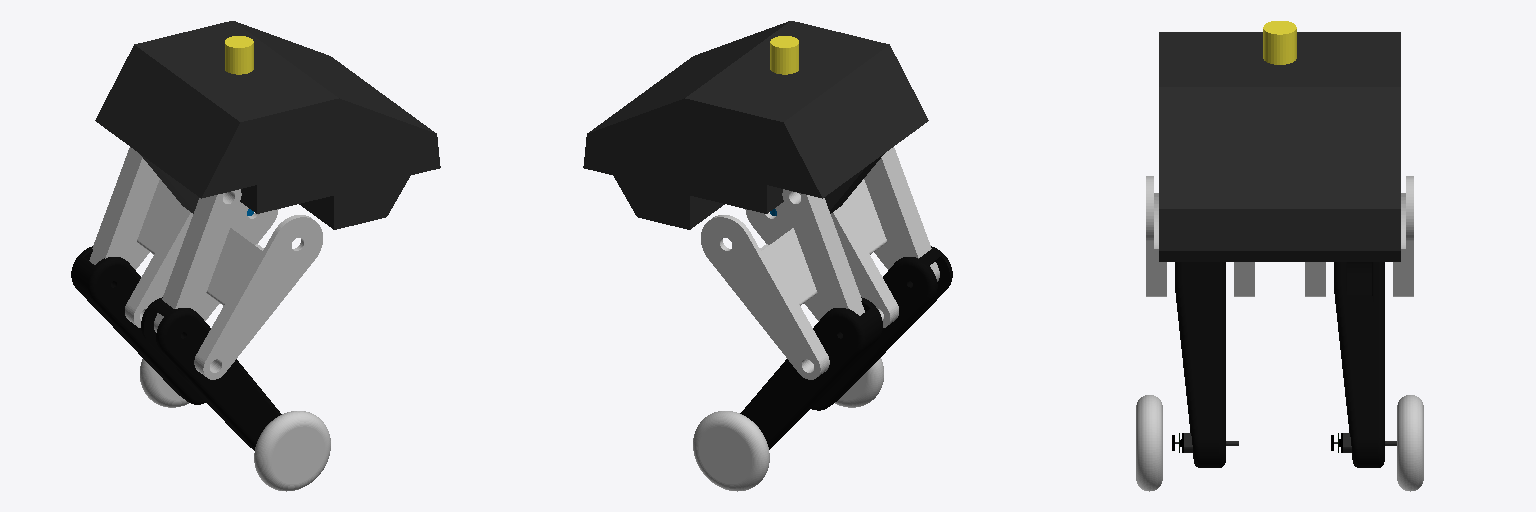
robot.urdf — echo_bot:
<?xml version="1.0" encoding="utf-8"?>
<!-- =================================================================================== -->
<!-- |    This document was autogenerated by xacro from echo_bot.urdf.xacro            | -->
<!-- |    EDITING THIS FILE BY HAND IS NOT RECOMMENDED                                 | -->
<!-- =================================================================================== -->
<robot name="echo_bot">
  <!-- == echo_bot base == -->
  <link name="base_link"/>
  <link name="torso_link">
    <visual>
      <origin rpy="0 0 0" xyz="0 0 0"/>
      <geometry>
        <mesh filename="package://echo_bot_description/meshes/DAE/torso.dae"/>
      </geometry>
    </visual>
    <collision>
      <origin rpy="0 0 0" xyz="0 0 0"/>
      <geometry>
        <mesh filename="package://echo_bot_description/meshes/STL/torso.stl"/>
      </geometry>
    </collision>
    <inertial>
      <inertia ixx="0.006594" ixy="0.0" ixz="0.000999" iyy="0.007405" iyz="0.0" izz="0.010608"/>
      <mass value="2.915"/>
      <origin rpy="0 0 0" xyz="0.025 0 0.053"/>
    </inertial>
  </link>
  <link name="torso_back_left"/>
  <!-- <link name="torso_back_right"/> -->
  <joint name="torso_link_to_torso_back_left" type="fixed">
    <origin xyz="-0.04 0.0475 0.035"/>
    <parent link="torso_link"/>
    <child link="torso_back_left"/>
  </joint>
  <!-- <joint name="torso_link_to_torso_back_right" type="fixed">
      <origin xyz="-0.04 -0.0475 0.035"/>
      <parent link="torso_link"/>
      <child link="torso_back_right"/>
    </joint> -->
  <joint name="base_link_to_torso_link" type="fixed">
    <origin rpy="0 0 0" xyz="0 0 0"/>
    <parent link="base_link"/>
    <child link="torso_link"/>
  </joint>
  <!-- <link name="base_footprint"/>
  <joint name="base_link_to_base_footprint_joint" type="fixed">
    <origin xyz="0 0 0.090"/>
    <parent link="base_link"/>
    <child link="base_footprint"/>
  </joint> -->
  <!-- Link -->
  <link name="upper_lleg_link">
    <visual>
      <origin rpy="0 0 0" xyz="0 0 0"/>
      <geometry>
        <mesh filename="package://echo_bot_description/meshes/DAE/upper_leg.dae"/>
      </geometry>
    </visual>
    <collision>
      <origin rpy="0 0 0" xyz="0 0 0"/>
      <geometry>
        <mesh filename="package://echo_bot_description/meshes/STL/upper_leg.stl"/>
      </geometry>
    </collision>
    <inertial>
      <inertia ixx="0.000311" ixy="0.0" ixz="0.000001" iyy="0.000394" iyz="0.0" izz="0.000622"/>
      <mass value="0.5"/>
      <origin rpy="0 0 0" xyz="0.045 0 -0.001"/>
    </inertial>
  </link>
  <link name="lower_lleg_link">
    <visual>
      <origin rpy="0 0 0" xyz="0 0 0"/>
      <geometry>
        <mesh filename="package://echo_bot_description/meshes/DAE/lower_lleg.dae"/>
      </geometry>
    </visual>
    <collision>
      <origin rpy="0 0 0" xyz="0 0 0"/>
      <geometry>
        <mesh filename="package://echo_bot_description/meshes/STL/lower_lleg.stl"/>
      </geometry>
    </collision>
    <inertial>
      <inertia ixx="0.000151" ixy="-0.000041" ixz="-0.000004" iyy="0.000795" iyz="0.0" izz="0.000777"/>
      <mass value="0.5"/>
      <origin rpy="0 0 0" xyz="0.058 0.001 -0.001"/>
    </inertial>
  </link>
  <link name="upper_side_lleg_link">
    <visual>
      <origin rpy="0 0 0" xyz="0 0 0"/>
      <material name="leg_color_0"/>
      <geometry>
        <mesh filename="package://echo_bot_description/meshes/DAE/upper_side_leg.dae"/>
      </geometry>
    </visual>
    <collision>
      <origin rpy="0 0 0" xyz="0 0 0"/>
      <geometry>
        <mesh filename="package://echo_bot_description/meshes/STL/upper_side_leg.stl"/>
      </geometry>
    </collision>
    <inertial>
      <inertia ixx="0.000018" ixy="0.0" ixz="0.0" iyy="0.000316" iyz="0.0" izz="0.000314"/>
      <mass value="0.5"/>
      <origin rpy="0 0 0" xyz="0.05 0 0"/>
    </inertial>
  </link>
  <!-- Joint -->
  <joint name="torso_to_upper_lleg" type="revolute">
    <origin rpy="0.0 2.27 0.0" xyz="0.0 0.0475 0.0"/>
    <parent link="torso_link"/>
    <child link="upper_lleg_link"/>
    <axis xyz="0 1 0"/>
    <limit effort="100" lower="0.0" upper="0.52359879" velocity="3.14159274"/>
    <dynamics damping="0.1"/>
  </joint>
  <transmission name="torso_to_upper_lleg_trans">
    <type>transmission_interface/SimpleTransmission</type>
    <joint name="torso_to_upper_lleg">
      <hardwareInterface>hardware_interface/EffortJointInterface</hardwareInterface>
    </joint>
    <actuator name="torso_to_upper_lleg_motor">
      <hardwareInterface>hardware_interface/EffortJointInterface</hardwareInterface>
      <mechanicalReduction>1</mechanicalReduction>
    </actuator>
  </transmission>
  <joint name="upper_lleg_to_lower_lleg" type="continuous">
    <origin rpy="0.0 -1.36 0.0" xyz="0.1 0.0 0.0"/>
    <parent link="upper_lleg_link"/>
    <child link="lower_lleg_link"/>
    <axis xyz="0 1 0"/>
    <!-- <mimic joint="upper_${prefix}leg_link_joint" multiplier="-2.186" offset="-0.02025"/> -->
  </joint>
  <joint name="lower_lleg_to_upper_side_lleg" type="continuous">
    <origin rpy="0.0 -2.08 0.0" xyz="-0.025 0.0 0.0"/>
    <parent link="lower_lleg_link"/>
    <child link="upper_side_lleg_link"/>
    <axis xyz="0 1 0"/>
    <!-- <mimic joint="upper_${prefix}leg_link_joint" multiplier="2.123937" offset="0.003625"/> -->
  </joint>
  <!-- Link -->
  <link name="upper_rleg_link">
    <visual>
      <origin rpy="0 0 0" xyz="0 0 0"/>
      <geometry>
        <mesh filename="package://echo_bot_description/meshes/DAE/upper_leg.dae"/>
      </geometry>
    </visual>
    <collision>
      <origin rpy="0 0 0" xyz="0 0 0"/>
      <geometry>
        <mesh filename="package://echo_bot_description/meshes/STL/upper_leg.stl"/>
      </geometry>
    </collision>
    <inertial>
      <inertia ixx="0.000311" ixy="0.0" ixz="0.000001" iyy="0.000394" iyz="0.0" izz="0.000622"/>
      <mass value="0.5"/>
      <origin rpy="0 0 0" xyz="0.045 0 -0.001"/>
    </inertial>
  </link>
  <link name="lower_rleg_link">
    <visual>
      <origin rpy="0 0 0" xyz="0 0 0"/>
      <geometry>
        <mesh filename="package://echo_bot_description/meshes/DAE/lower_rleg.dae"/>
      </geometry>
    </visual>
    <collision>
      <origin rpy="0 0 0" xyz="0 0 0"/>
      <geometry>
        <mesh filename="package://echo_bot_description/meshes/STL/lower_rleg.stl"/>
      </geometry>
    </collision>
    <inertial>
      <inertia ixx="0.000151" ixy="-0.000041" ixz="-0.000004" iyy="0.000795" iyz="0.0" izz="0.000777"/>
      <mass value="0.5"/>
      <origin rpy="0 0 0" xyz="0.058 0.001 -0.001"/>
    </inertial>
  </link>
  <link name="upper_side_rleg_link">
    <visual>
      <origin rpy="0 0 0" xyz="0 0 0"/>
      <material name="leg_color_0"/>
      <geometry>
        <mesh filename="package://echo_bot_description/meshes/DAE/upper_side_leg.dae"/>
      </geometry>
    </visual>
    <collision>
      <origin rpy="0 0 0" xyz="0 0 0"/>
      <geometry>
        <mesh filename="package://echo_bot_description/meshes/STL/upper_side_leg.stl"/>
      </geometry>
    </collision>
    <inertial>
      <inertia ixx="0.000018" ixy="0.0" ixz="0.0" iyy="0.000316" iyz="0.0" izz="0.000314"/>
      <mass value="0.5"/>
      <origin rpy="0 0 0" xyz="0.05 0 0"/>
    </inertial>
  </link>
  <!-- Joint -->
  <joint name="torso_to_upper_rleg" type="revolute">
    <origin rpy="0.0 2.27 0.0" xyz="0.0 -0.0475 0.0"/>
    <parent link="torso_link"/>
    <child link="upper_rleg_link"/>
    <axis xyz="0 1 0"/>
    <limit effort="100" lower="0.0" upper="0.52359879" velocity="3.14159274"/>
    <dynamics damping="0.1"/>
  </joint>
  <transmission name="torso_to_upper_rleg_trans">
    <type>transmission_interface/SimpleTransmission</type>
    <joint name="torso_to_upper_rleg">
      <hardwareInterface>hardware_interface/EffortJointInterface</hardwareInterface>
    </joint>
    <actuator name="torso_to_upper_rleg_motor">
      <hardwareInterface>hardware_interface/EffortJointInterface</hardwareInterface>
      <mechanicalReduction>1</mechanicalReduction>
    </actuator>
  </transmission>
  <joint name="upper_rleg_to_lower_rleg" type="continuous">
    <origin rpy="0.0 -1.36 0.0" xyz="0.1 0.0 0.0"/>
    <parent link="upper_rleg_link"/>
    <child link="lower_rleg_link"/>
    <axis xyz="0 1 0"/>
    <!-- <mimic joint="upper_${prefix}leg_link_joint" multiplier="-2.186" offset="-0.02025"/> -->
  </joint>
  <joint name="lower_rleg_to_upper_side_rleg" type="continuous">
    <origin rpy="0.0 -2.08 0.0" xyz="-0.025 0.0 0.0"/>
    <parent link="lower_rleg_link"/>
    <child link="upper_side_rleg_link"/>
    <axis xyz="0 1 0"/>
    <!-- <mimic joint="upper_${prefix}leg_link_joint" multiplier="2.123937" offset="0.003625"/> -->
  </joint>
  <link name="wheel_l">
    <visual>
      <geometry>
        <mesh filename="package://echo_bot_description/meshes/DAE/tyre.dae"/>
      </geometry>
    </visual>
    <collision>
      <!-- <origin xyz="0 -0.003 0" rpy="${-M_PI/2} 0 0"/> -->
      <origin rpy="0 0 0" xyz="0 0 0"/>
      <geometry>
        <!-- <cylinder radius="${wheel_radius}" length="${wheel_length}"/> -->
        <mesh filename="package://echo_bot_description/meshes/STL/tyre.stl"/>
      </geometry>
    </collision>
    <inertial>
      <origin rpy="0 0 0" xyz="0.0 0.0 0.0"/>
      <mass value="0.039831"/>
      <inertia ixx="8.85243975e-06" ixy="0.0" ixz="0.0" iyy="8.85243975e-06" iyz="0.0" izz="1.67489355e-05"/>
      <!-- <cylinder_inertial  mass="${wheel_mass}"
                            radius="${wheel_radius}" length="${wheel_length}"/> -->
    </inertial>
  </link>
  <joint name="lower_lleg_to_wheel_l" type="continuous">
    <origin rpy="-1.57079637 0.0 0.0" xyz="0.1 0.0305 0.0"/>
    <parent link="lower_lleg_link"/>
    <child link="wheel_l"/>
    <axis xyz="0 0 1"/>
    <limit effort="0.4" velocity="12.0"/>
  </joint>
  <transmission name="lower_lleg_to_wheel_l_trans">
    <type>transmission_interface/SimpleTransmission</type>
    <joint name="lower_lleg_to_wheel_l">
      <hardwareInterface>hardware_interface/VelocityJointInterface</hardwareInterface>
    </joint>
    <actuator name="lower_lleg_to_wheel_l_motor">
      <hardwareInterface>hardware_interface/VelocityJointInterface</hardwareInterface>
      <mechanicalReduction>1</mechanicalReduction>
    </actuator>
  </transmission>
  <link name="wheel_r">
    <visual>
      <geometry>
        <mesh filename="package://echo_bot_description/meshes/DAE/tyre.dae"/>
      </geometry>
    </visual>
    <collision>
      <!-- <origin xyz="0 -0.003 0" rpy="${-M_PI/2} 0 0"/> -->
      <origin rpy="0 0 0" xyz="0 0 0"/>
      <geometry>
        <!-- <cylinder radius="${wheel_radius}" length="${wheel_length}"/> -->
        <mesh filename="package://echo_bot_description/meshes/STL/tyre.stl"/>
      </geometry>
    </collision>
    <inertial>
      <origin rpy="0 0 0" xyz="0.0 0.0 0.0"/>
      <mass value="0.039831"/>
      <inertia ixx="8.85243975e-06" ixy="0.0" ixz="0.0" iyy="8.85243975e-06" iyz="0.0" izz="1.67489355e-05"/>
      <!-- <cylinder_inertial  mass="${wheel_mass}"
                            radius="${wheel_radius}" length="${wheel_length}"/> -->
    </inertial>
  </link>
  <joint name="lower_rleg_to_wheel_r" type="continuous">
    <origin rpy="-1.57079637 0.0 0.0" xyz="0.1 -0.0305 0.0"/>
    <parent link="lower_rleg_link"/>
    <child link="wheel_r"/>
    <axis xyz="0 0 1"/>
    <limit effort="0.4" velocity="12.0"/>
  </joint>
  <transmission name="lower_rleg_to_wheel_r_trans">
    <type>transmission_interface/SimpleTransmission</type>
    <joint name="lower_rleg_to_wheel_r">
      <hardwareInterface>hardware_interface/VelocityJointInterface</hardwareInterface>
    </joint>
    <actuator name="lower_rleg_to_wheel_r_motor">
      <hardwareInterface>hardware_interface/VelocityJointInterface</hardwareInterface>
      <mechanicalReduction>1</mechanicalReduction>
    </actuator>
  </transmission>
  <link name="lidar_link">
    <visual>
      <origin rpy="0 0 0" xyz="0 0 0"/>
      <geometry>
        <cylinder length="0.02" radius="0.01"/>
      </geometry>
    </visual>
    <collision>
      <origin rpy="0 0 0" xyz="0 0 0"/>
      <geometry>
        <cylinder length="0.02" radius="0.01"/>
      </geometry>
    </collision>
    <inertial>
      <inertia ixx="2.1733e-6" ixy="0.0" ixz="0.0" iyy="2.1733e-6" iyz="0.0" izz="1.8e-7"/>
      <mass value="0.01"/>
      <origin rpy="0 0 0" xyz="0 0 0"/>
    </inertial>
  </link>
  <joint name="lidar_joint" type="fixed">
    <origin rpy="0 0 0" xyz="0 0 0.11"/>
    <parent link="torso_link"/>
    <child link="lidar_link"/>
  </joint>
  <link name="imu_link">
    <visual>
      <origin rpy="0 0 0" xyz="0 0 0"/>
      <geometry>
        <cylinder length="0.02" radius="0.01"/>
      </geometry>
    </visual>
    <collision>
      <origin rpy="0 0 0" xyz="0 0 0"/>
      <geometry>
        <cylinder length="0.02" radius="0.01"/>
      </geometry>
    </collision>
    <inertial>
      <inertia ixx="2.1733e-6" ixy="0.0" ixz="0.0" iyy="2.1733e-6" iyz="0.0" izz="1.8e-7"/>
      <mass value="0.01"/>
      <origin rpy="0 0 0" xyz="0 0 0"/>
    </inertial>
  </link>
  <joint name="imu_joint" type="fixed">
    <origin rpy="0 0 0" xyz="0 0 0"/>
    <parent link="torso_link"/>
    <child link="imu_link"/>
  </joint>
</robot>

--- Render facts (derived) ---
3 views of the same robot in one strip: view 1: azimuth 30°, elevation 25°; view 2: azimuth 150°, elevation 25°; view 3: azimuth 270°, elevation 25° (orthographic).
Robot: echo_bot — 13 links, 12 joints (2 revolute, 6 continuous, 4 fixed); root link base_link; default pose: all joints at 0.
Visible links, largest first — view 1: torso_link, upper_rleg_link, lower_rleg_link, lower_lleg_link, upper_side_rleg_link, wheel_r, upper_lleg_link, upper_side_lleg_link, wheel_l, lidar_link; view 2: torso_link, upper_lleg_link, lower_lleg_link, lower_rleg_link, upper_side_lleg_link, wheel_l, upper_rleg_link, upper_side_rleg_link, wheel_r, lidar_link; view 3: torso_link, lower_lleg_link, lower_rleg_link, upper_lleg_link, upper_rleg_link, wheel_l, wheel_r, lidar_link.
Boxes of the visible links, x1,y1,x2,y2 form: torso_link: (95,21,440,229); upper_rleg_link: (194,202,322,379); lower_rleg_link: (141,297,281,450); lower_lleg_link: (71,246,205,404); upper_side_rleg_link: (154,189,241,332); wheel_r: (254,411,330,491); upper_lleg_link: (125,179,192,327); upper_side_lleg_link: (89,147,159,264); wheel_l: (140,359,188,407); lidar_link: (225,36,253,74); torso_link: (583,21,928,229); upper_lleg_link: (701,202,829,379); lower_lleg_link: (740,297,882,449); lower_rleg_link: (811,246,952,410); upper_side_lleg_link: (782,189,864,315); wheel_l: (693,411,769,491); upper_rleg_link: (831,179,898,327); upper_side_rleg_link: (864,147,939,281); wheel_r: (835,358,883,407); lidar_link: (770,36,798,74); torso_link: (1159,32,1400,261); lower_lleg_link: (1331,262,1396,467); lower_rleg_link: (1172,262,1238,467); upper_lleg_link: (1305,176,1413,296); upper_rleg_link: (1146,176,1254,296); wheel_l: (1397,395,1423,491); wheel_r: (1136,395,1162,491); lidar_link: (1263,21,1296,64).
Bounding box of the posed robot: 0.2144 × 0.172 × 0.3045 m (x, y, z).
9 mesh visuals loaded from 6 distinct referenced files (6 Collada DAE).